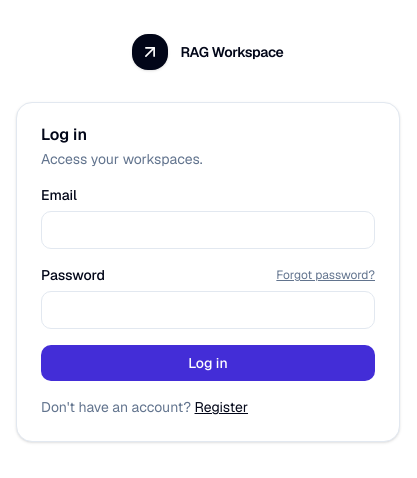
Test: LoginPage › shows an invalid-credentials error without redirecting
This screenshot has width=417, height=478.
Type "user@example.com" into the field labelled "Email" at (208, 230), box [41, 211, 375, 249]
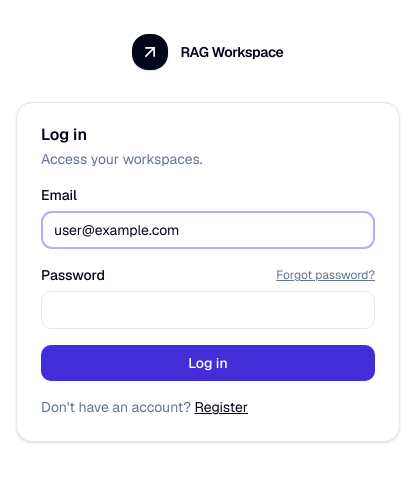
Type "wrong-password" into the password field labelled "Password" at (208, 310), box [41, 291, 375, 329]
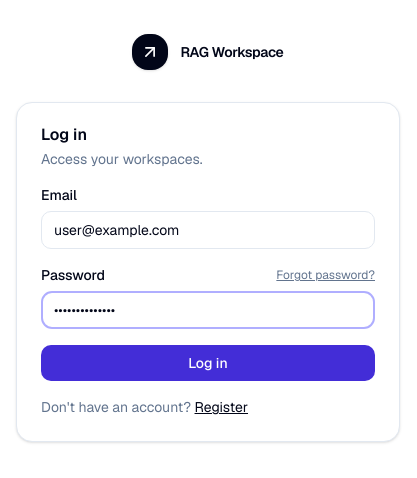
Click the button "Log in" at (208, 363), box [41, 345, 375, 381]
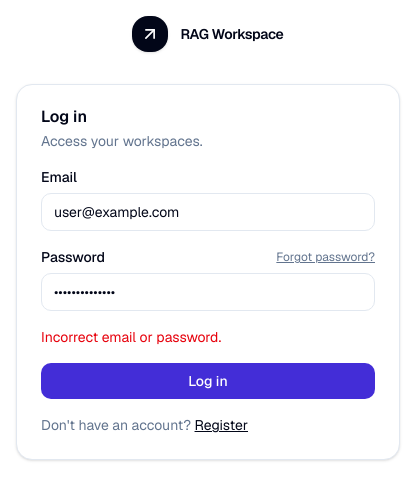
Expected: the text "Incorrect email or password." is shown, [41, 328, 221, 346]
